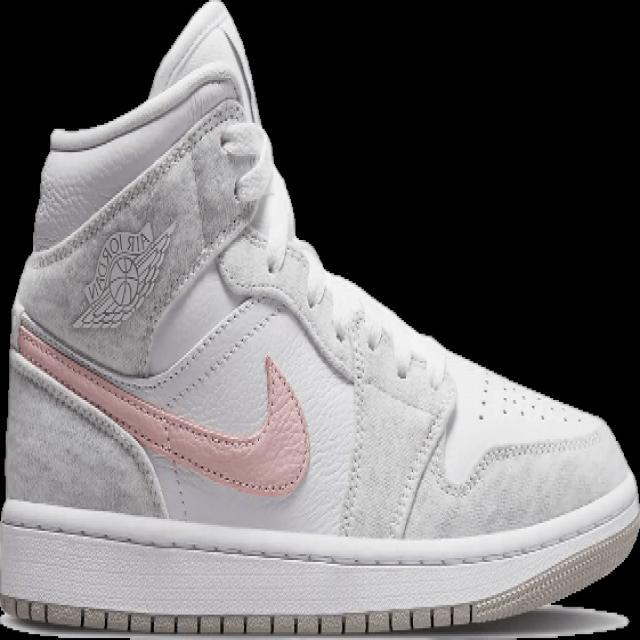J1_InsoleChar: (0, 0, 638, 636)
J1_ShoeLogo: (70, 219, 175, 331)
J1_StitchPattern: (0, 495, 638, 632), (216, 231, 456, 535), (14, 310, 311, 498), (30, 96, 246, 265), (334, 307, 453, 538), (1, 597, 475, 635), (473, 513, 638, 621), (158, 308, 277, 408), (336, 309, 384, 537), (457, 427, 606, 497), (473, 370, 587, 428)
